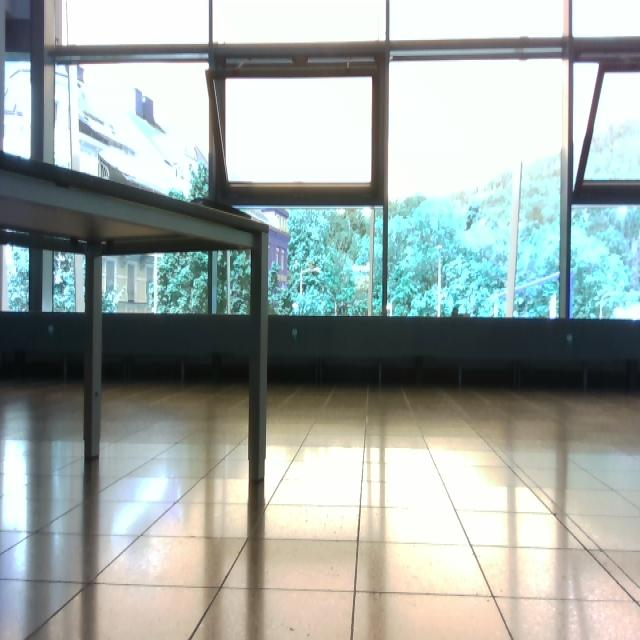door: (86, 245, 263, 482)
light bulb: (292, 302, 299, 309)
pillar: (84, 245, 104, 460)
tiled floor: (2, 380, 639, 638)
window: (1, 1, 640, 322), (387, 52, 566, 318)
